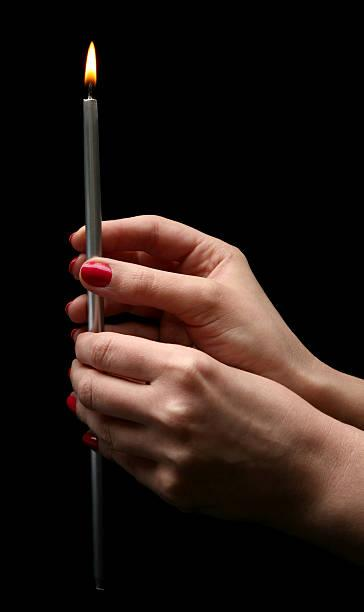Fire: (83, 37, 96, 92)
